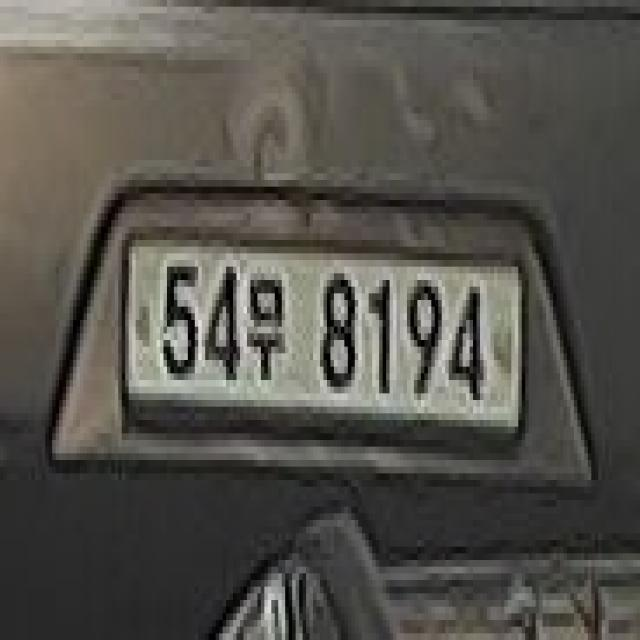1: (362, 273, 400, 407)
4: (442, 280, 497, 407), (205, 253, 244, 387)
5: (156, 260, 202, 373)
8: (316, 247, 362, 400)
9: (400, 267, 452, 420)
license_plate: (111, 220, 529, 460)
mu: (240, 266, 292, 386)
